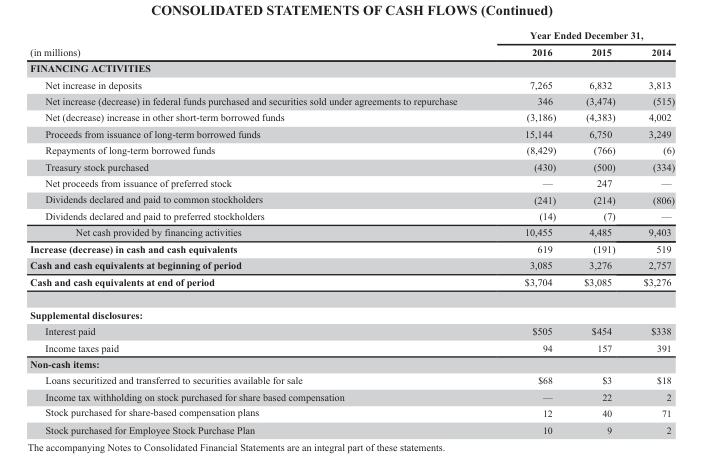table: (29, 29, 674, 434)
table column: (29, 29, 490, 434), (490, 29, 569, 434), (569, 29, 628, 434), (628, 29, 674, 434)
table column header: (29, 29, 674, 59)
table projected row header: (29, 297, 674, 322), (29, 59, 674, 75), (29, 355, 674, 371)
table row: (29, 297, 674, 322), (29, 273, 674, 297), (29, 75, 674, 92), (29, 108, 674, 125), (29, 141, 674, 158), (29, 190, 674, 207), (29, 223, 674, 240), (29, 256, 674, 273), (29, 338, 674, 355), (29, 371, 674, 388), (29, 404, 674, 421), (29, 43, 674, 59), (29, 59, 674, 75), (29, 92, 674, 108), (29, 125, 674, 141), (29, 158, 674, 174), (29, 174, 674, 190), (29, 207, 674, 223), (29, 240, 674, 256), (29, 322, 674, 338), (29, 355, 674, 371), (29, 388, 674, 404), (29, 29, 674, 43), (29, 421, 674, 434)
table spanning cell: (29, 29, 490, 59), (490, 29, 674, 43)
